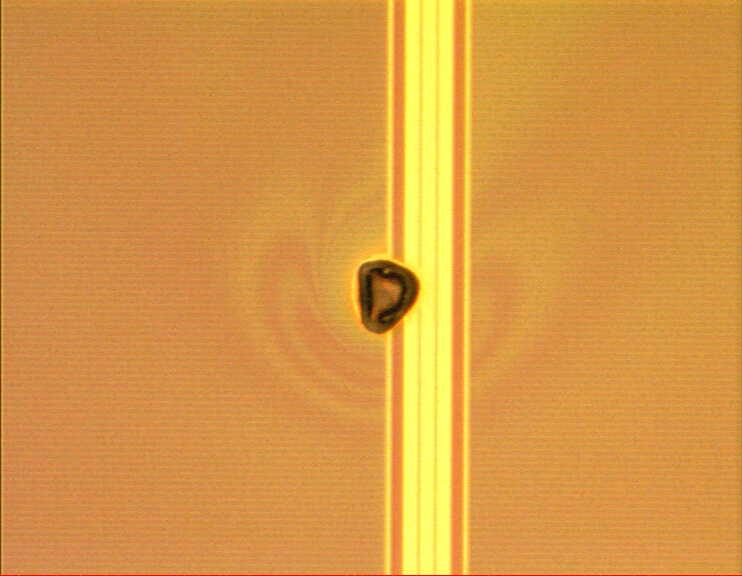PIQ PARTICLE: (340, 249, 432, 341)
